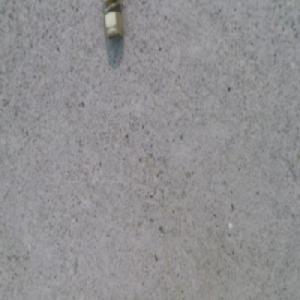BoltNutSet: (103, 0, 122, 41)
